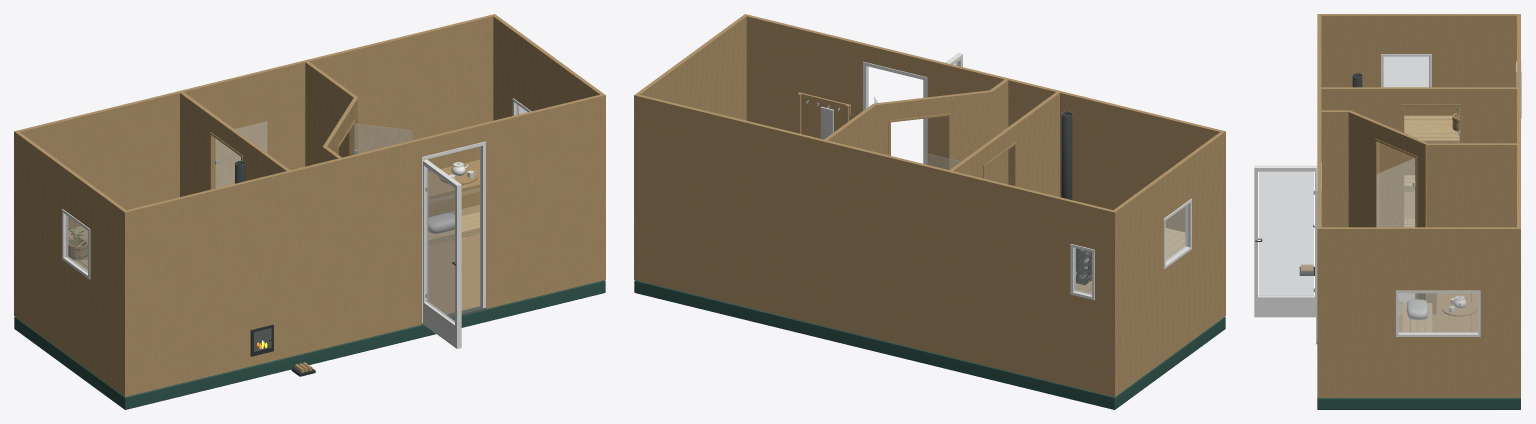
The picture shows the model from 3 angles, left to right: view 1: azimuth 30°, elevation 25°; view 2: azimuth 150°, elevation 25°; view 3: azimuth 270°, elevation 25°; orthographic projection. The views are drawn at different scales.
Parts seen in each view (by area): view 1: DP13-W01, DP13-W02, DP13-W03, Dimensioned foundation, Hinge_DP13-D03, DP13-W04, DP13-W05, DP13-R03, DP13-W06, Door entry p13_i4838, Window p13_i4911, Hinge_DP13-D02 (+5 smaller); view 2: DP13-W02, DP13-W01, DP13-W03, Dimensioned foundation, DP13-W04, DP13-W05, DP13-W08, ASTON dimensioned stove and remote firebox, Window p13_i4911, DP13-W06, DP13-W07, Window p13_i4912 (+3 smaller); view 3: DP13-W04, DP13-W03, Hinge_DP13-D03, DP13-W05, DP13-W06, DP13-W08, Window p13_i4913, DP13-W07, Hinge_DP13-D01, Dimensioned foundation, DP13-W01, Window p13_i4911 (+10 smaller).
Part boxes in pixels (x1,y1,x2,y2): DP13-W01: [123, 94, 605, 396]; DP13-W02: [14, 14, 496, 316]; DP13-W03: [16, 132, 126, 395]; Dimensioned foundation: [14, 204, 605, 409]; Hinge_DP13-D03: [423, 159, 461, 348]; DP13-W04: [493, 15, 603, 120]; DP13-W05: [180, 92, 289, 196]; DP13-R03: [428, 204, 479, 314]; DP13-W06: [305, 61, 358, 166]; Door entry p13_i4838: [421, 141, 486, 324]; Window p13_i4911: [62, 209, 90, 279]; Hinge_DP13-D02: [215, 121, 267, 187]; DP13-W02: [634, 94, 1116, 396]; DP13-W01: [743, 14, 1225, 316]; DP13-W03: [1113, 132, 1223, 395]; Dimensioned foundation: [634, 280, 1225, 409]; DP13-W04: [636, 15, 746, 120]; DP13-W05: [950, 92, 1059, 196]; DP13-W08: [875, 90, 992, 180]; ASTON dimensioned stove and remote firebox: [1061, 111, 1091, 284]; Window p13_i4911: [1163, 198, 1191, 269]; DP13-W06: [824, 103, 876, 152]; DP13-W07: [989, 79, 1008, 184]; Window p13_i4912: [1070, 244, 1094, 300]; DP13-W04: [1321, 227, 1516, 397]; DP13-W03: [1321, 14, 1516, 175]; Hinge_DP13-D03: [1254, 165, 1316, 317]; DP13-W05: [1321, 87, 1516, 227]; DP13-W06: [1426, 143, 1516, 313]; DP13-W08: [1348, 110, 1427, 300]; Window p13_i4913: [1395, 290, 1480, 336]; DP13-W07: [1321, 110, 1350, 227]; Hinge_DP13-D01: [1376, 158, 1415, 315]; Dimensioned foundation: [1317, 314, 1520, 409]; DP13-W01: [1317, 14, 1321, 397]; Window p13_i4911: [1381, 54, 1431, 87].
Bounding box in the file's own units: 6.02 × 2.36 × 3.15.
Materials: 31 (12 with a texture image).
